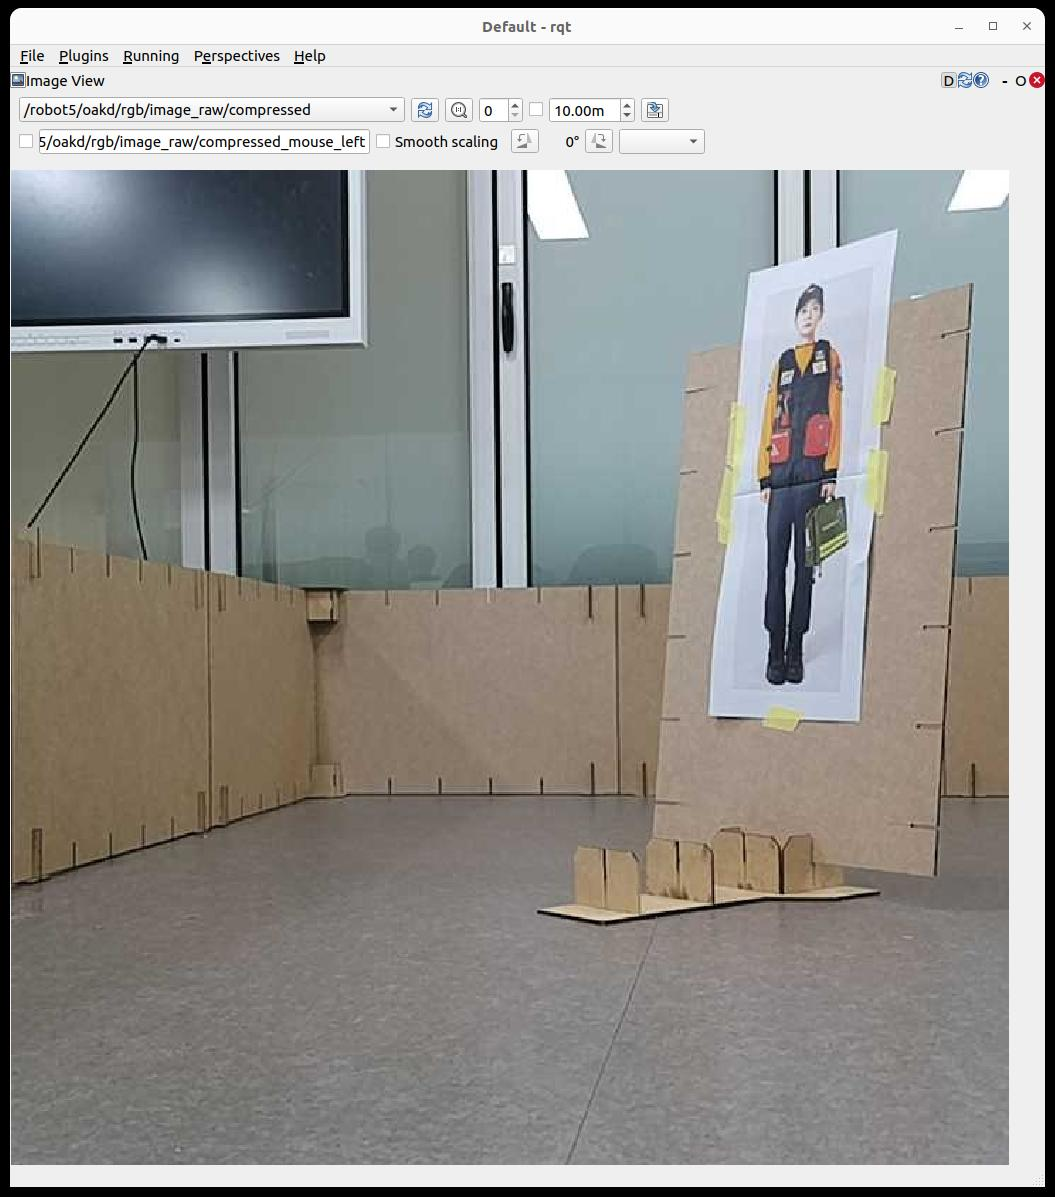Responder: (758, 286, 841, 684)
